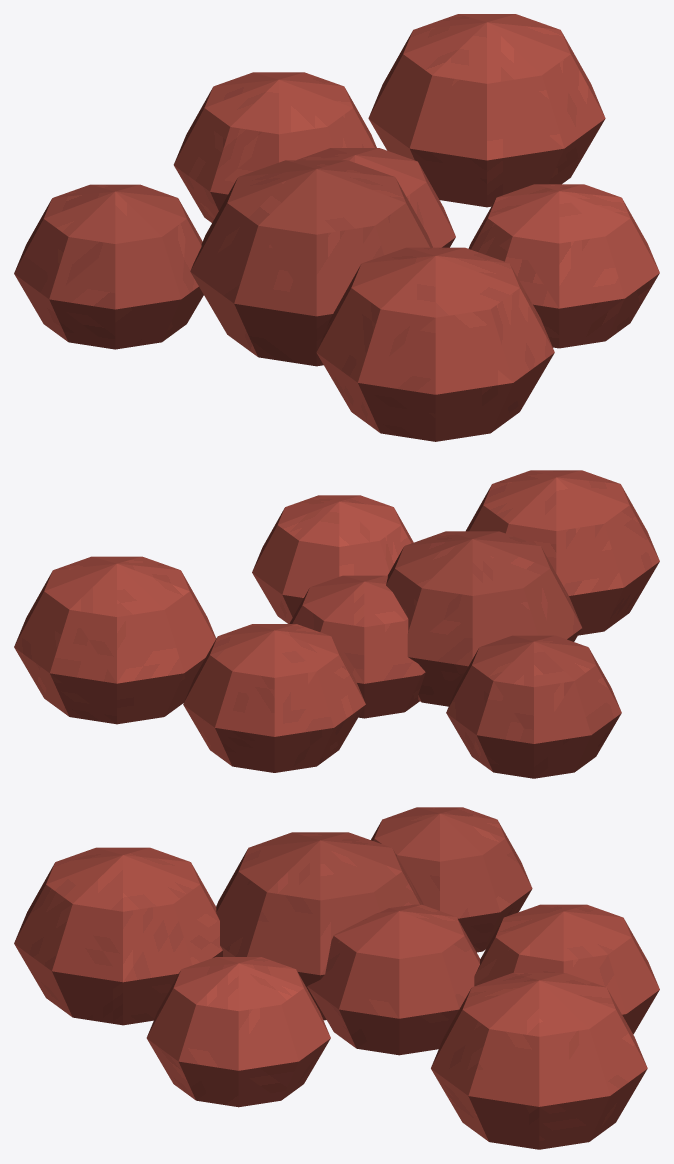
File: m_stellatum_berries.glb
3 views of the same model, one above another, from view 1: azimuth 30°, elevation 25°; view 2: azimuth 150°, elevation 25°; view 3: azimuth 270°, elevation 25° (orthographic). The views are drawn at different scales.
Visible parts, largest first — view 1: block_individual berry (×7); view 2: block_individual berry (×7); view 3: block_individual berry (×7).
Part boxes in pixels (<box>): block_individual berry (×7): <box>14,14,659,441</box>; block_individual berry (×7): <box>14,470,659,778</box>; block_individual berry (×7): <box>14,807,659,1149</box>.
Size of the model in its own units: 0.0467 by 0.0135 by 0.0465.
1 material, 1 textured.
